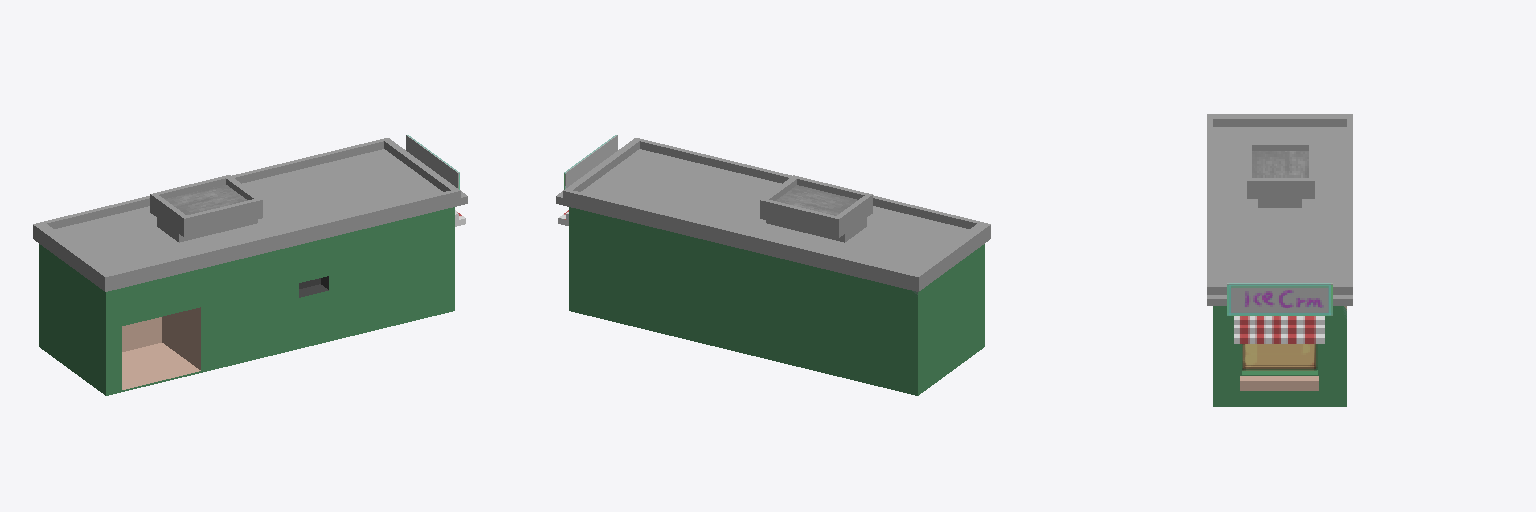
The picture shows the model from 3 angles: view 1: azimuth 30°, elevation 25°; view 2: azimuth 150°, elevation 25°; view 3: azimuth 270°, elevation 25°; orthographic projection.
Visible parts, largest first — view 1: Cube; view 2: Cube; view 3: Cube.
Part boxes in pixels (x1,y1,x2,y2): Cube: (33, 135, 467, 395); Cube: (556, 135, 990, 395); Cube: (1207, 114, 1352, 406).
Size of the model in its own units: 16.09 by 5.82 by 5.42.
Materials: 1 (1 with a texture image).